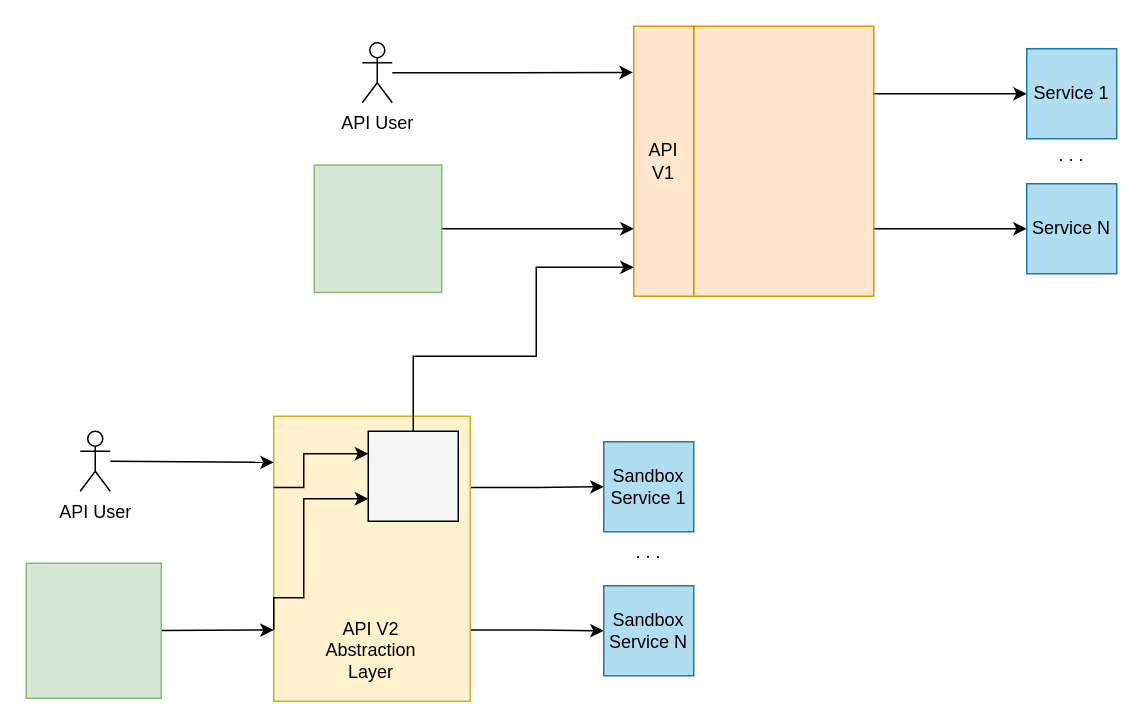
This 1143x728 diagram has some shape labels left out. The centre of each missing label's shape, as x and y in pixels:
"Configurator E-commerce Inetgration" goes at [93,630].
"Current System" goes at [783,160].
"E-commerce Inetgration" goes at [377,228].
"V2 to V1 Bridge" goes at [412,475].
